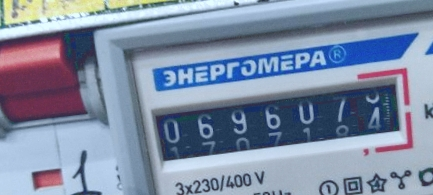0: (295, 95, 316, 127), (161, 115, 181, 145)
4: (363, 102, 383, 133)
6: (262, 100, 282, 131), (195, 110, 215, 140)
7: (328, 92, 351, 125)
9: (227, 106, 249, 136)
screen: (136, 63, 421, 179)
